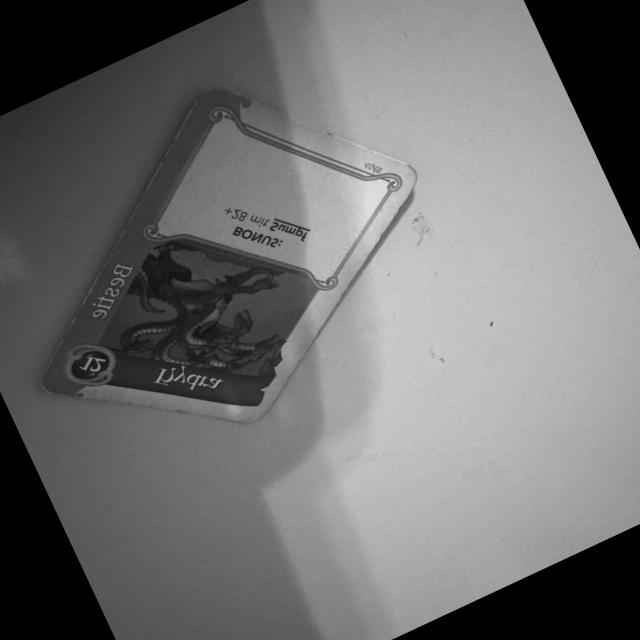Hydra: (31, 80, 429, 425)
